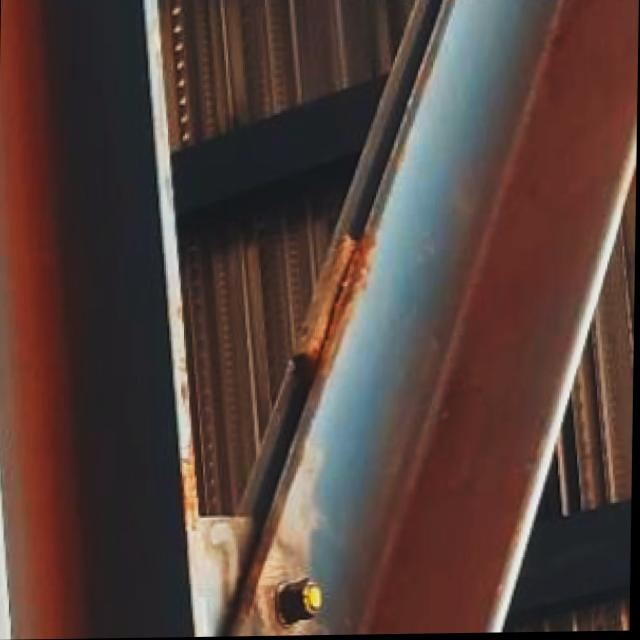Rusty bolt: (281, 573, 328, 625)
